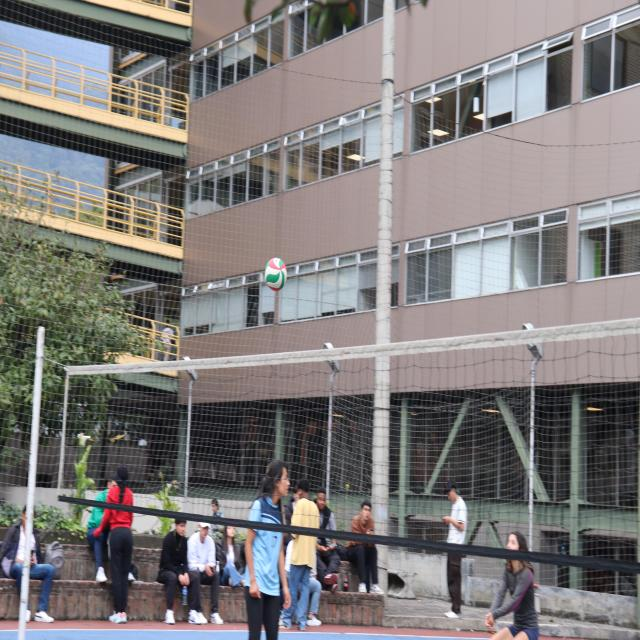volleyball: (265, 256, 286, 290)
